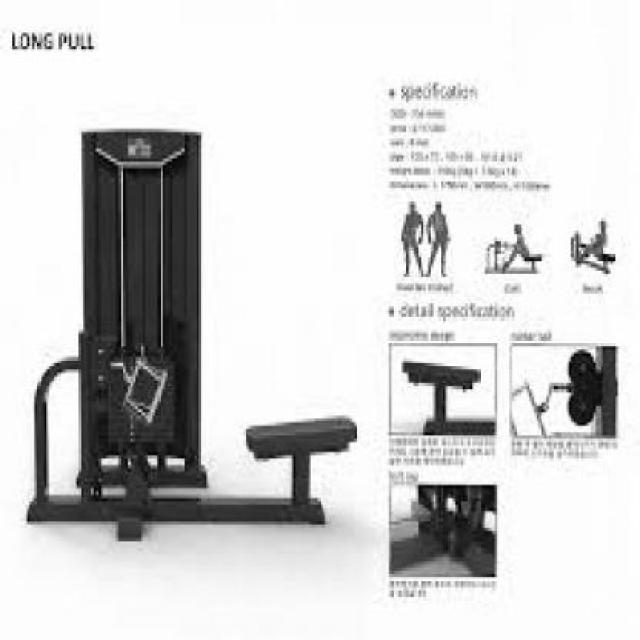Seated Cable Rows: (23, 110, 369, 564)
